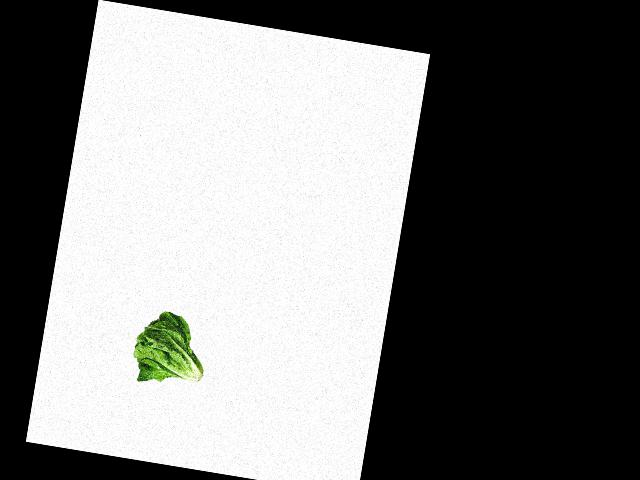lettuce: (129, 306, 216, 390)
